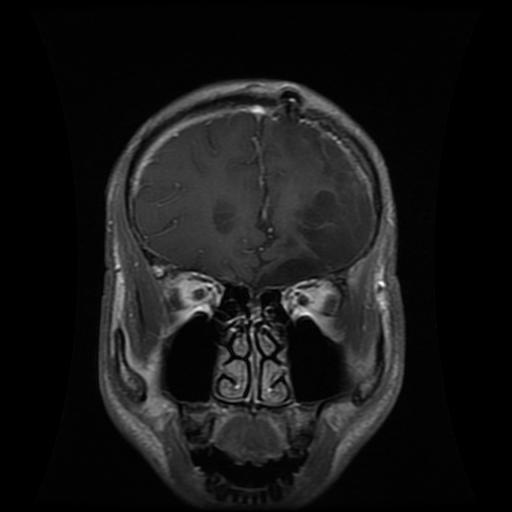Gliomia_tumour: (253, 183, 371, 286)
